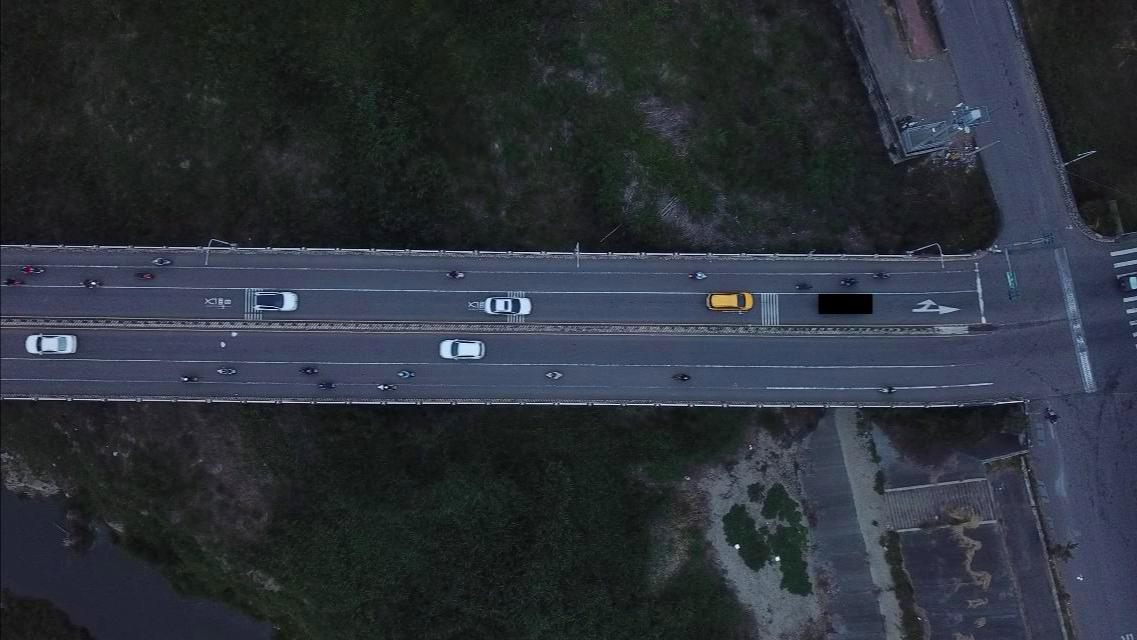vehicle: (26, 333, 78, 356), (707, 289, 755, 312), (252, 290, 300, 312), (484, 295, 534, 316), (438, 339, 486, 360)
